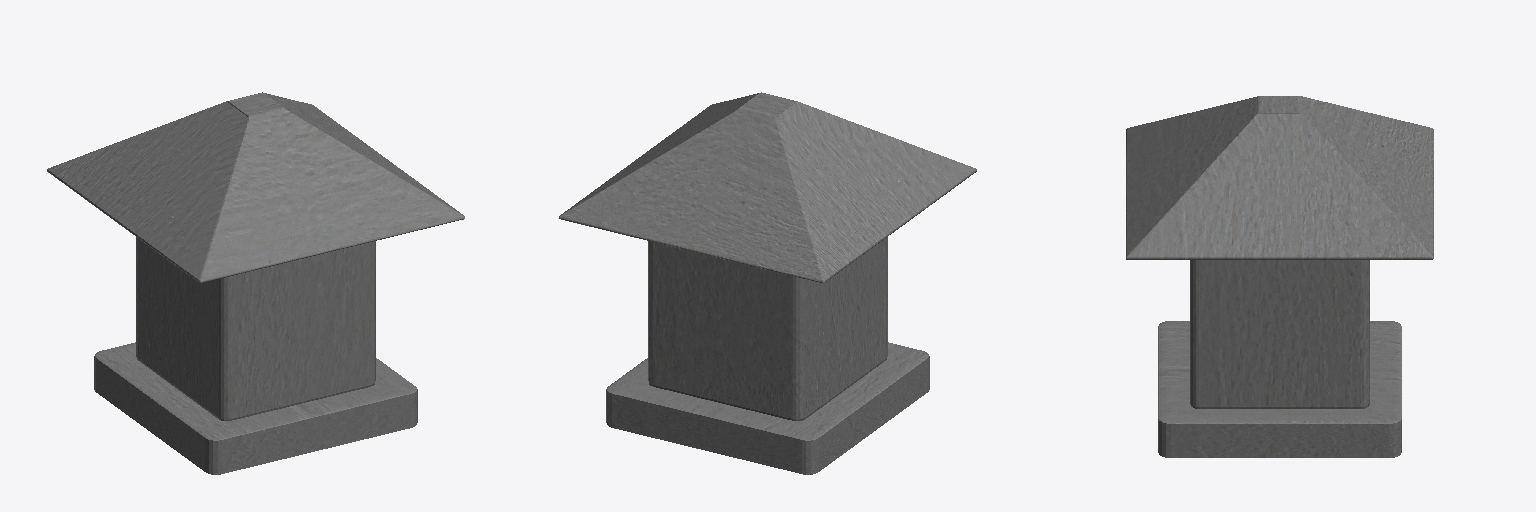
3 renders of one model, left to right at view 1: azimuth 30°, elevation 25°; view 2: azimuth 150°, elevation 25°; view 3: azimuth 270°, elevation 25°, orthographic.
Visible parts, largest first — view 1: BigRoof1; view 2: BigRoof1; view 3: BigRoof1.
Boxes of the visible parts, box(x1,y1,x2,y2) form: BigRoof1: box(47, 92, 464, 474); BigRoof1: box(559, 92, 976, 474); BigRoof1: box(1126, 96, 1433, 457).
Bounding box in the file's own units: 290 × 317 × 292.
Materials: 2 (1 with a texture image).